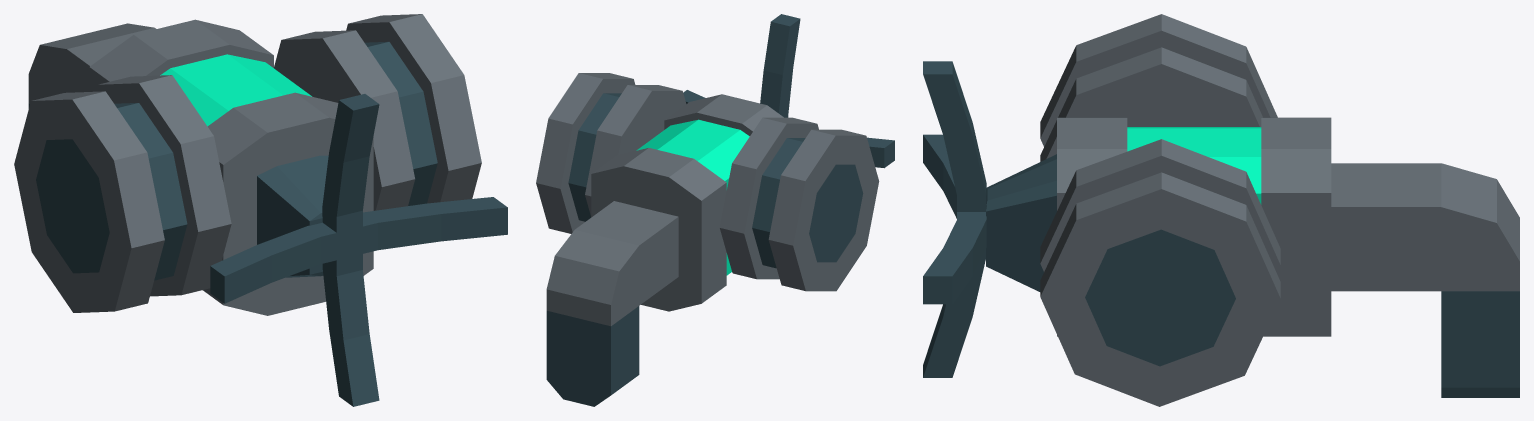
The model's file is Grapphling.fbx.
3 views of the same model, side by side, from view 1: azimuth 30°, elevation 25°; view 2: azimuth 150°, elevation 25°; view 3: azimuth 270°, elevation 25° (orthographic). The views are drawn at different scales.
Visible parts, largest first — view 1: Cube.003, Cube.005; view 2: Cube.005, Cube.003; view 3: Cube.005, Cube.003.
Boxes of the visible parts, x1,y1,x2,y2 form: Cube.003: [14, 14, 481, 312]; Cube.005: [28, 19, 507, 406]; Cube.005: [546, 14, 894, 406]; Cube.003: [536, 73, 879, 291]; Cube.005: [923, 61, 1519, 397]; Cube.003: [1040, 14, 1280, 406].
Bounding box in the file's own units: 0.4491 × 0.3837 × 0.6471.
